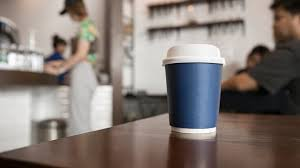cup: (162, 43, 226, 133)
